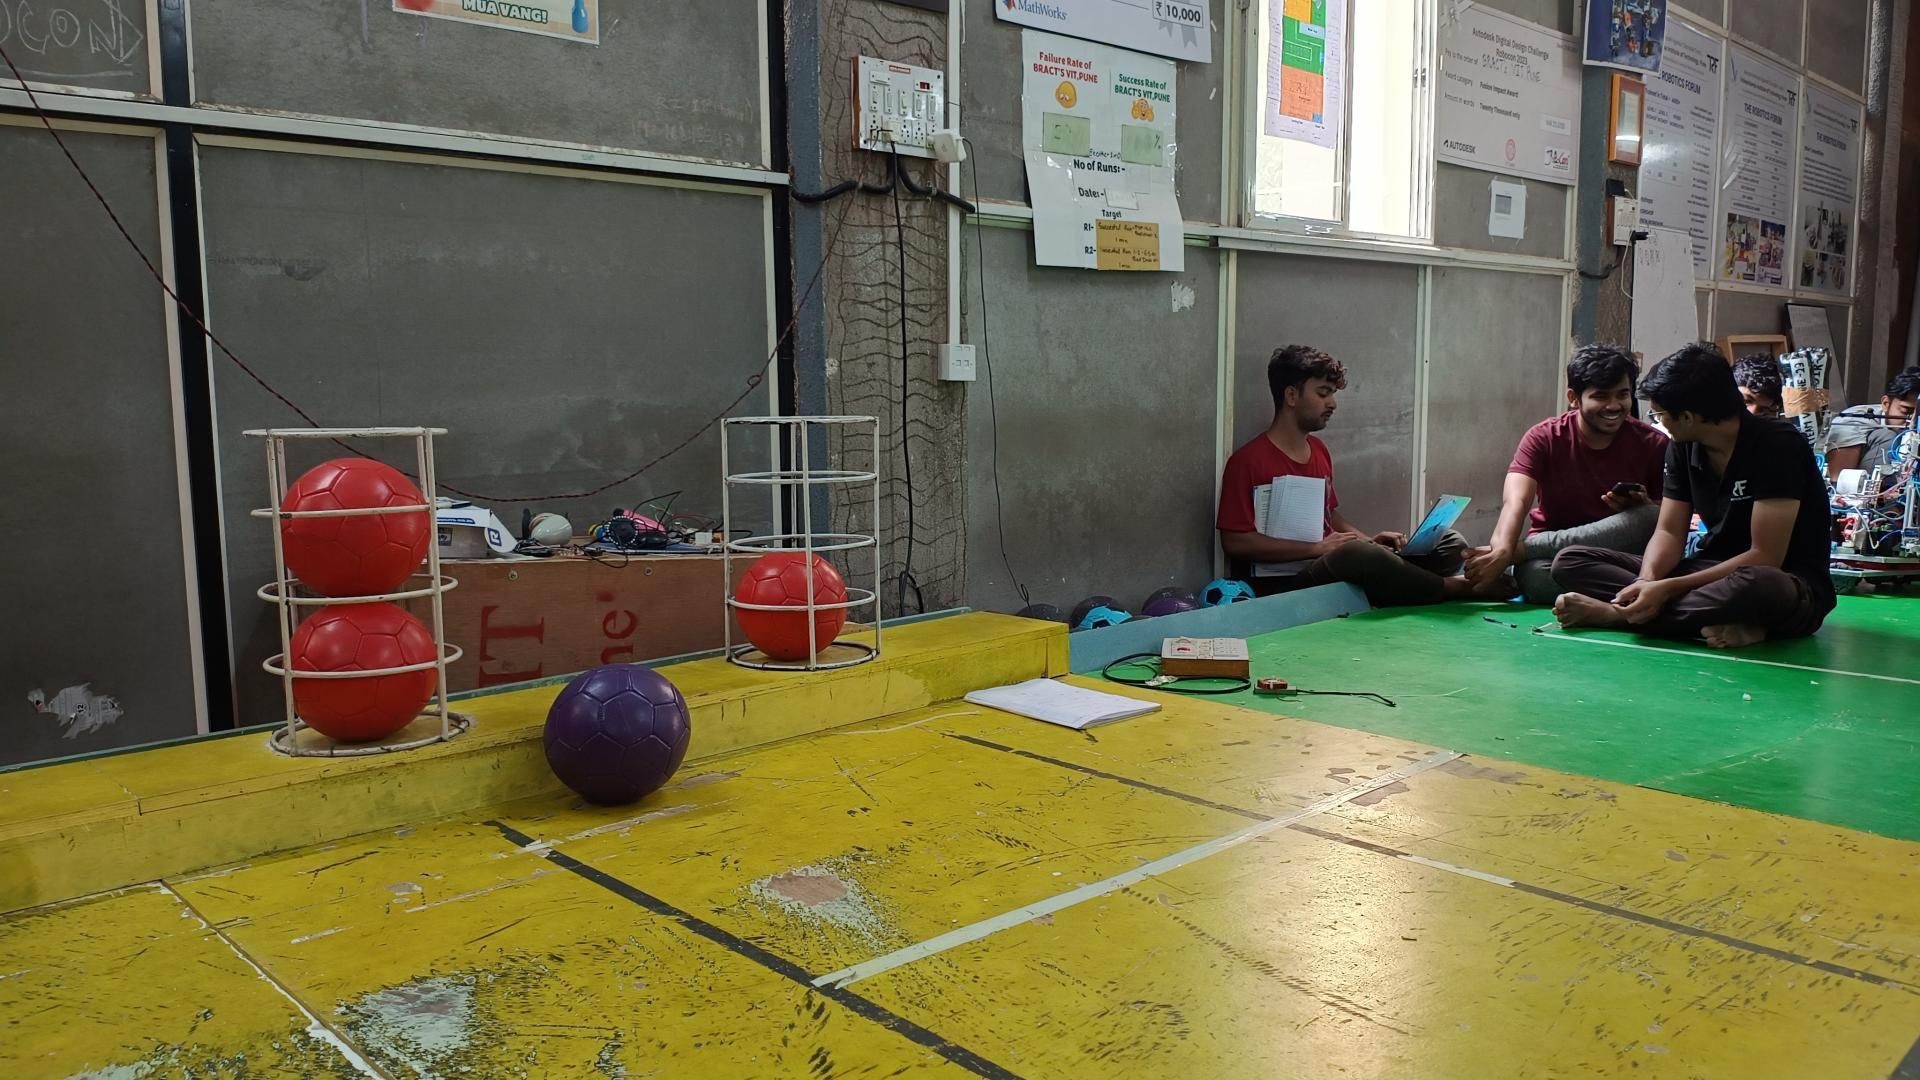laale: (287, 599, 434, 741), (281, 456, 431, 595), (733, 549, 849, 662)
